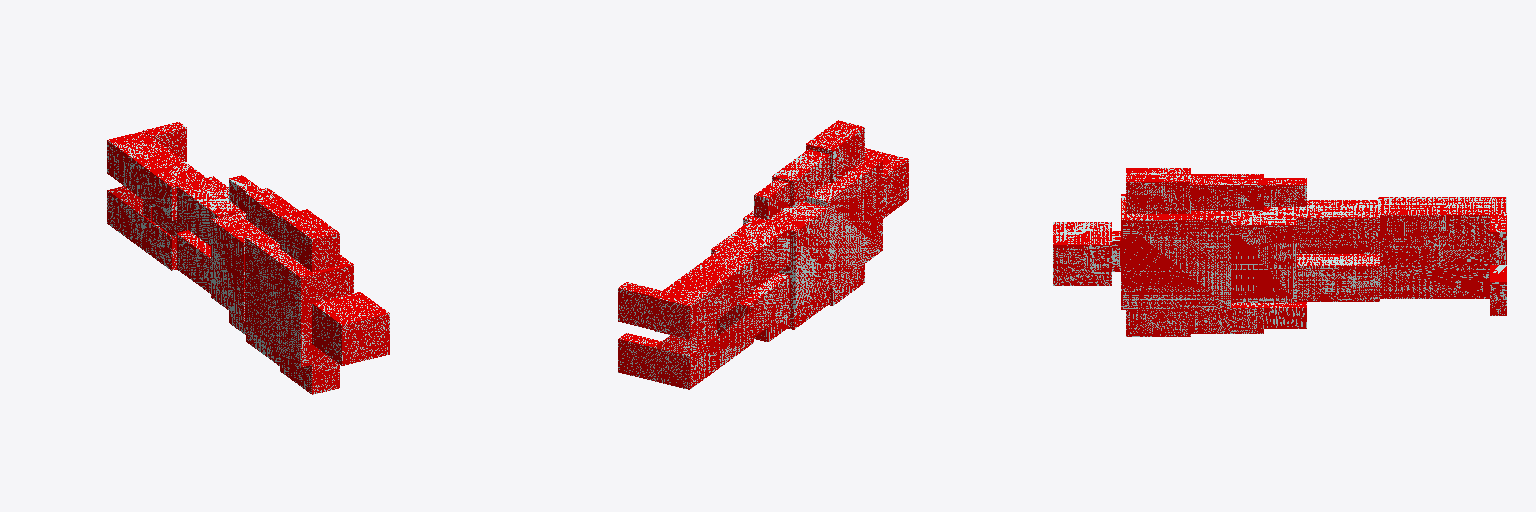
The model's file is UniqueSolutionMaze_robot_blender.obj.
3 views of the same model, side by side, from view 1: azimuth 30°, elevation 25°; view 2: azimuth 150°, elevation 25°; view 3: azimuth 270°, elevation 25° (orthographic).
Visible parts, largest first — view 1: instance_0.008_ID55.001, instance_0.010_ID67.001, instance_0.003_ID25.001, instance_0.007_ID49.001, instance_0.012_ID79.002, instance_0.011_ID73.002, instance_0.006_ID43.001, instance_0.013_ID85.003, instance_0.004_ID31.001, instance_0.015_ID97.002, instance_0.009_ID61.001, instance_0.005_ID37.001; view 2: instance_0.008_ID55.001, instance_0.007_ID49.001, instance_0.010_ID67.001, instance_0.012_ID79.002, instance_0.006_ID43.001, instance_0.004_ID31.001, instance_0.011_ID73.002, instance_0.013_ID85.003, instance_0.003_ID25.001, instance_0.009_ID61.001, instance_0.005_ID37.001, instance_0_ID3.004 (+1 smaller); view 3: instance_0.008_ID55.001, instance_0.007_ID49.001, instance_0.012_ID79.002, instance_0.010_ID67.001, instance_0.006_ID43.001, instance_0.004_ID31.001, instance_0.003_ID25.001, instance_0.011_ID73.002, instance_0.013_ID85.003, instance_0_ID3.004, instance_0.015_ID97.002, instance_0.005_ID37.001 (+2 smaller).
Boxes of the visible parts, box(x1,y1,x2,y2) form: instance_0.008_ID55.001: box(245, 233, 353, 366); instance_0.010_ID67.001: box(107, 131, 207, 220); instance_0.003_ID25.001: box(312, 292, 389, 365); instance_0.007_ID49.001: box(107, 186, 186, 270); instance_0.012_ID79.002: box(211, 212, 263, 321); instance_0.011_ID73.002: box(280, 209, 339, 271); instance_0.006_ID43.001: box(176, 176, 243, 245); instance_0.013_ID85.003: box(246, 188, 298, 243); instance_0.004_ID31.001: box(176, 230, 210, 293); instance_0.015_ID97.002: box(280, 353, 339, 394); instance_0.009_ID61.001: box(143, 122, 186, 161); instance_0.005_ID37.001: box(229, 175, 260, 212); instance_0.008_ID55.001: box(803, 157, 882, 290); instance_0.007_ID49.001: box(618, 308, 753, 389); instance_0.010_ID67.001: box(654, 250, 753, 339); instance_0.012_ID79.002: box(743, 201, 828, 309); instance_0.006_ID43.001: box(711, 219, 789, 289); instance_0.004_ID31.001: box(717, 273, 789, 336); instance_0.011_ID73.002: box(806, 120, 864, 182); instance_0.013_ID85.003: box(772, 150, 829, 206); instance_0.003_ID25.001: box(865, 148, 908, 218); instance_0.009_ID61.001: box(618, 282, 661, 329); instance_0.005_ID37.001: box(754, 179, 789, 219); instance_0_ID3.004: box(788, 290, 829, 329); instance_0.008_ID55.001: box(1121, 194, 1230, 309); instance_0.007_ID49.001: box(1380, 249, 1506, 315); instance_0.012_ID79.002: box(1231, 207, 1296, 302); instance_0.010_ID67.001: box(1378, 197, 1506, 248); instance_0.006_ID43.001: box(1296, 200, 1379, 253); instance_0.004_ID31.001: box(1297, 254, 1379, 301); instance_0.003_ID25.001: box(1053, 222, 1111, 285); instance_0.011_ID73.002: box(1126, 168, 1190, 213); instance_0.013_ID85.003: box(1191, 174, 1263, 210); instance_0_ID3.004: box(1191, 303, 1263, 333); instance_0.015_ID97.002: box(1126, 310, 1190, 336); instance_0.005_ID37.001: box(1264, 178, 1306, 206).
Size of the model in its own units: 2.52 by 5.13 by 13.6.